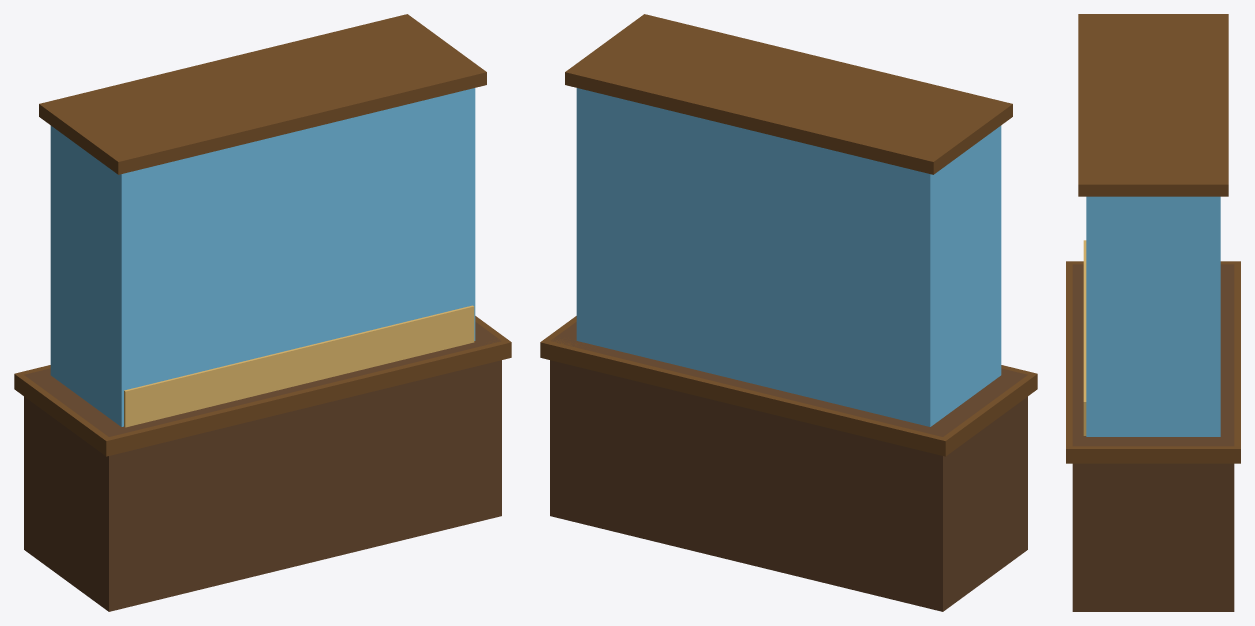
Rendered from fishtank.glb.
The picture shows the model from 3 angles, left to right: view 1: azimuth 30°, elevation 25°; view 2: azimuth 150°, elevation 25°; view 3: azimuth 270°, elevation 25°; orthographic projection. The views are drawn at different scales.
Parts seen in each view (by area): view 1: fishtank; view 2: fishtank; view 3: fishtank.
Boxes of the visible parts, x1,y1,x2,y2 form: fishtank: (14, 14, 511, 611); fishtank: (540, 14, 1037, 611); fishtank: (1066, 14, 1240, 611).
Size of the model in its own units: 1.65 by 1.73 by 0.65.
